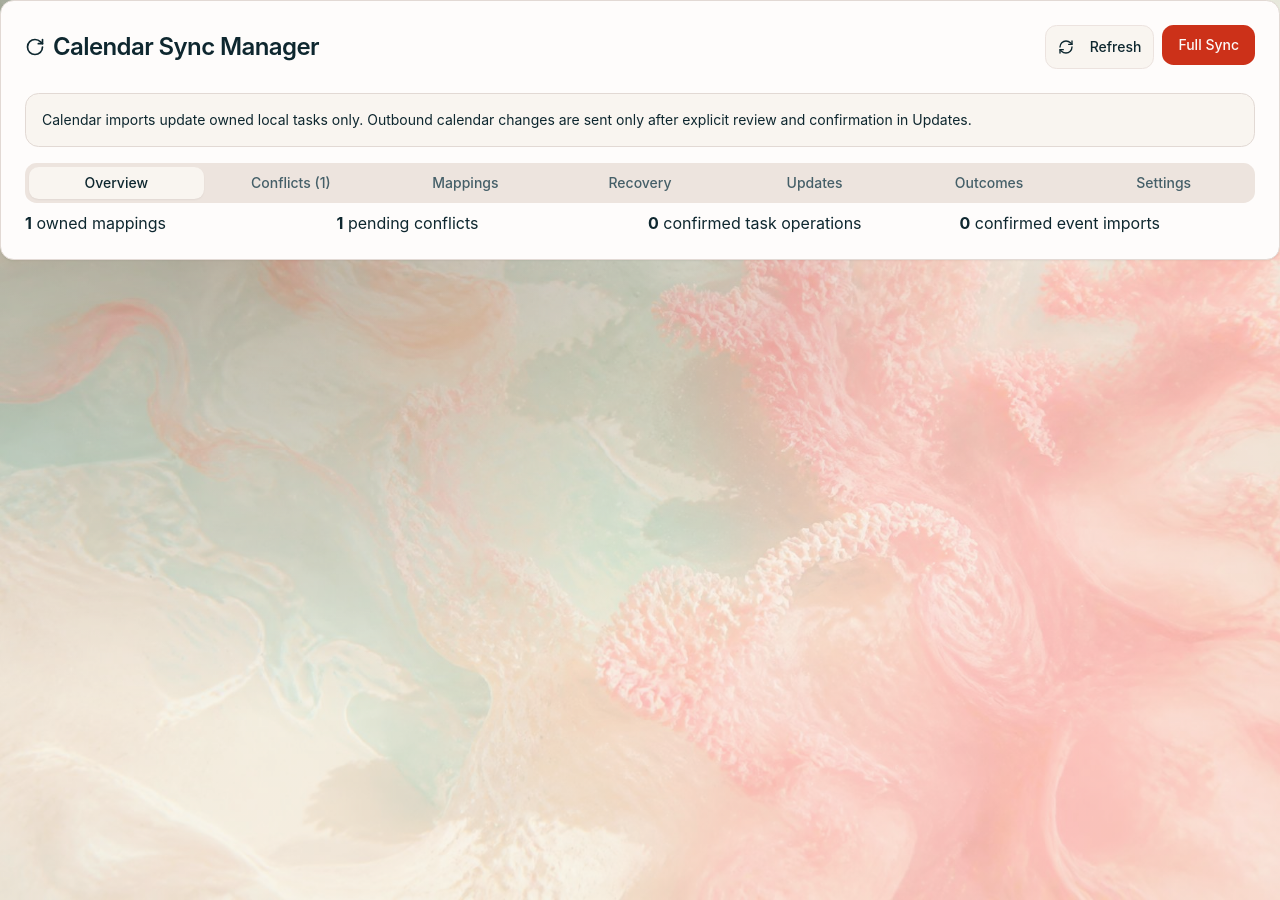
Test case: CalendarSyncPanel owner and truthful outcome lifecycle › coalesces rapid clicks without simulated progress and restores controls after failure
Click the button "Full Sync": (1209, 45) [1162,25,1255,65]
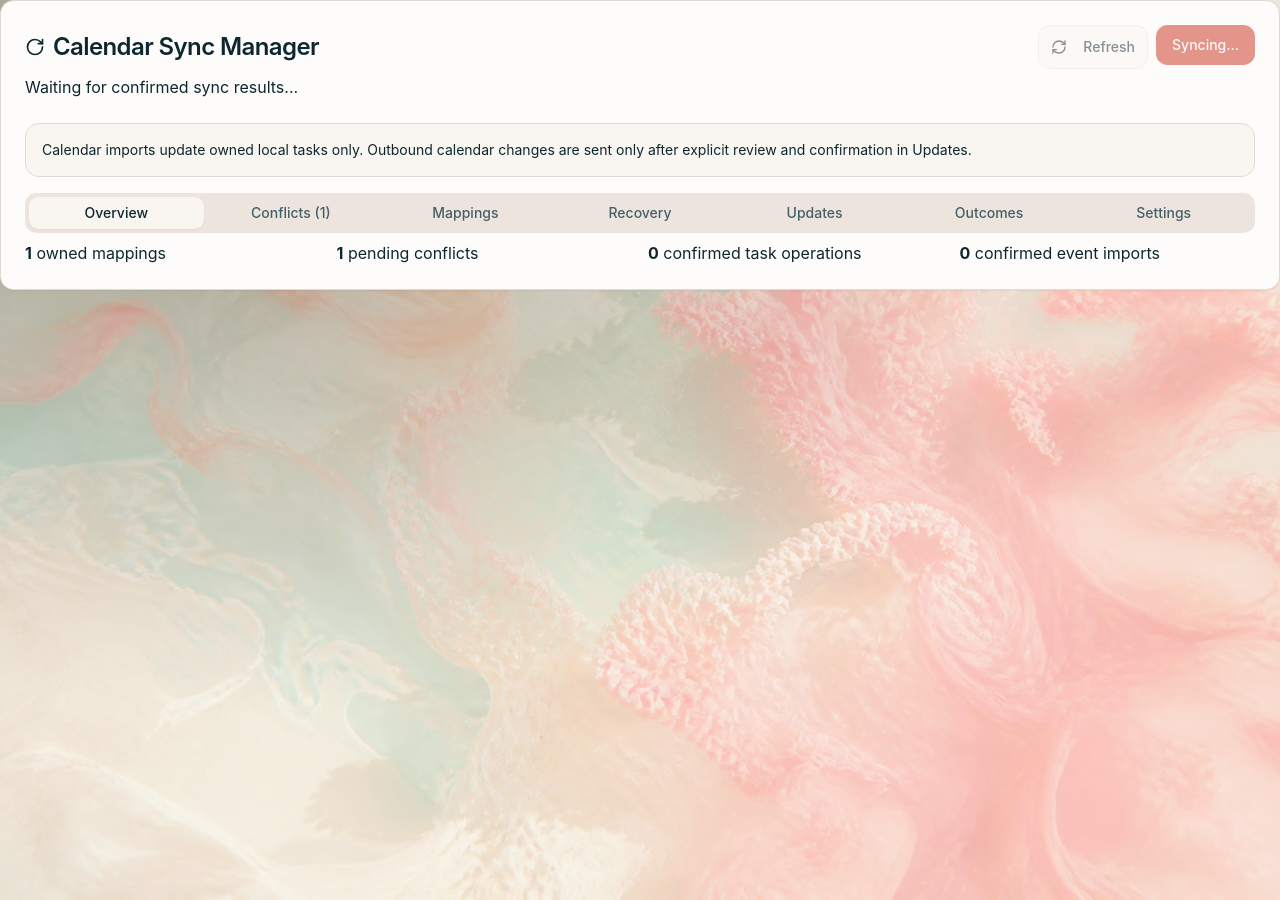
Click the button named "Full Sync": (1206, 45) [1156,25,1255,65]
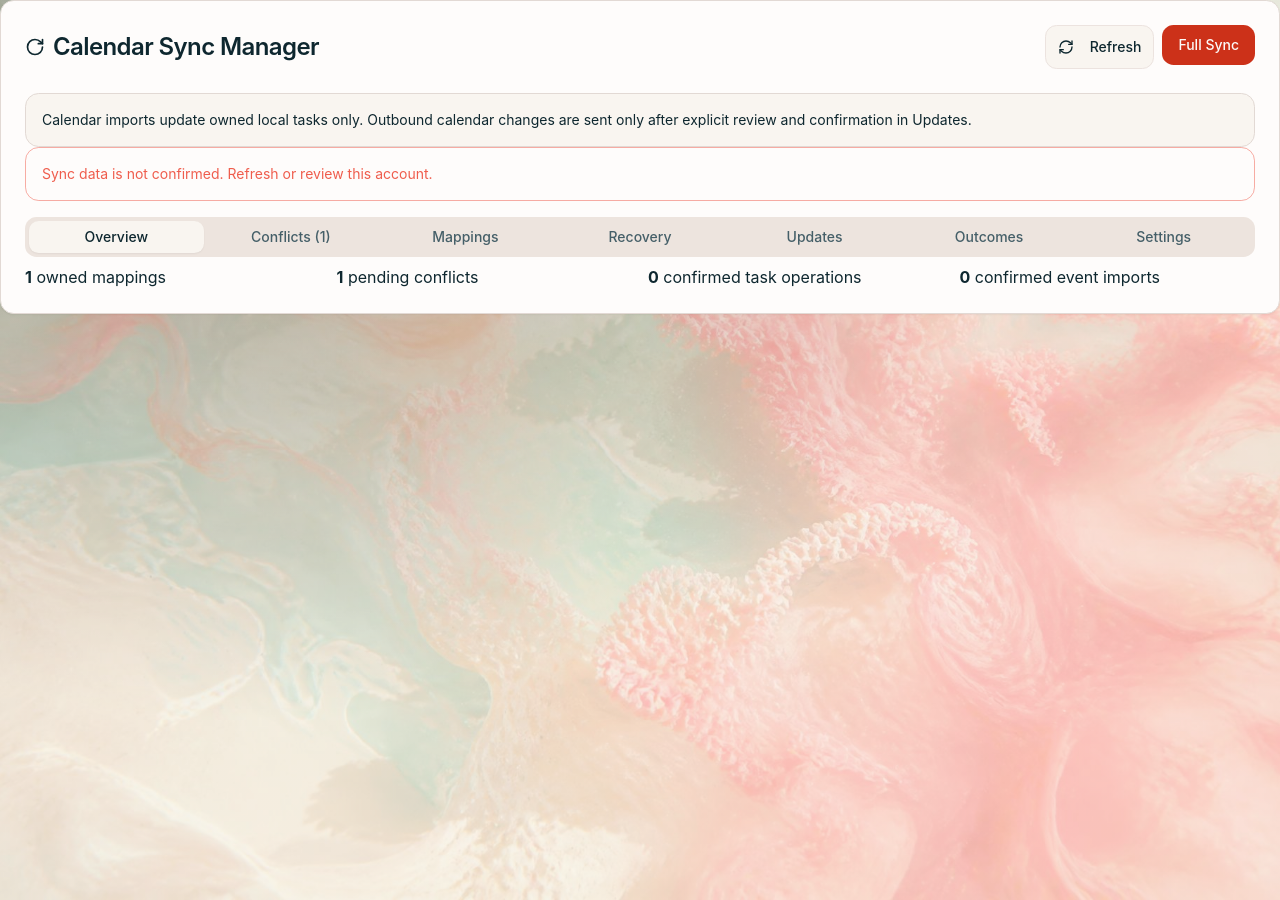
Expected: the button "Full Sync" is enabled, [1162,25,1255,65]
